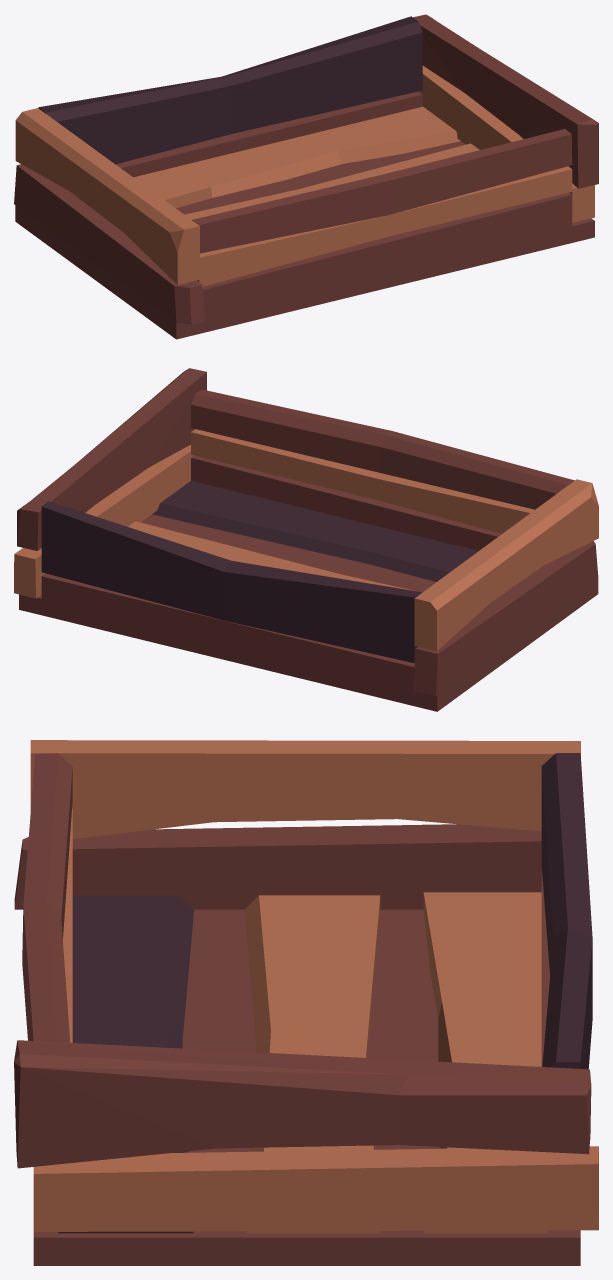
3 views of the same model, one above another, from view 1: azimuth 30°, elevation 25°; view 2: azimuth 150°, elevation 25°; view 3: azimuth 270°, elevation 25° (orthographic). The views are drawn at different scales.
Parts seen in each view (by area): view 1: Box_01_Empty; view 2: Box_01_Empty; view 3: Box_01_Empty.
Boxes of the visible parts, <box> form: Box_01_Empty: <box>14,14,598,339</box>; Box_01_Empty: <box>14,368,598,711</box>; Box_01_Empty: <box>14,740,598,1265</box>.
Size of the model in its own units: 85.89 by 23.95 by 61.17.
